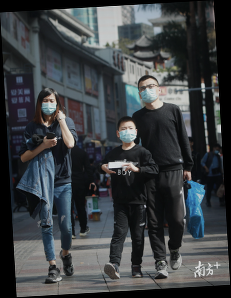with_mask: (138, 83, 160, 104), (119, 125, 138, 144), (40, 98, 57, 116)
